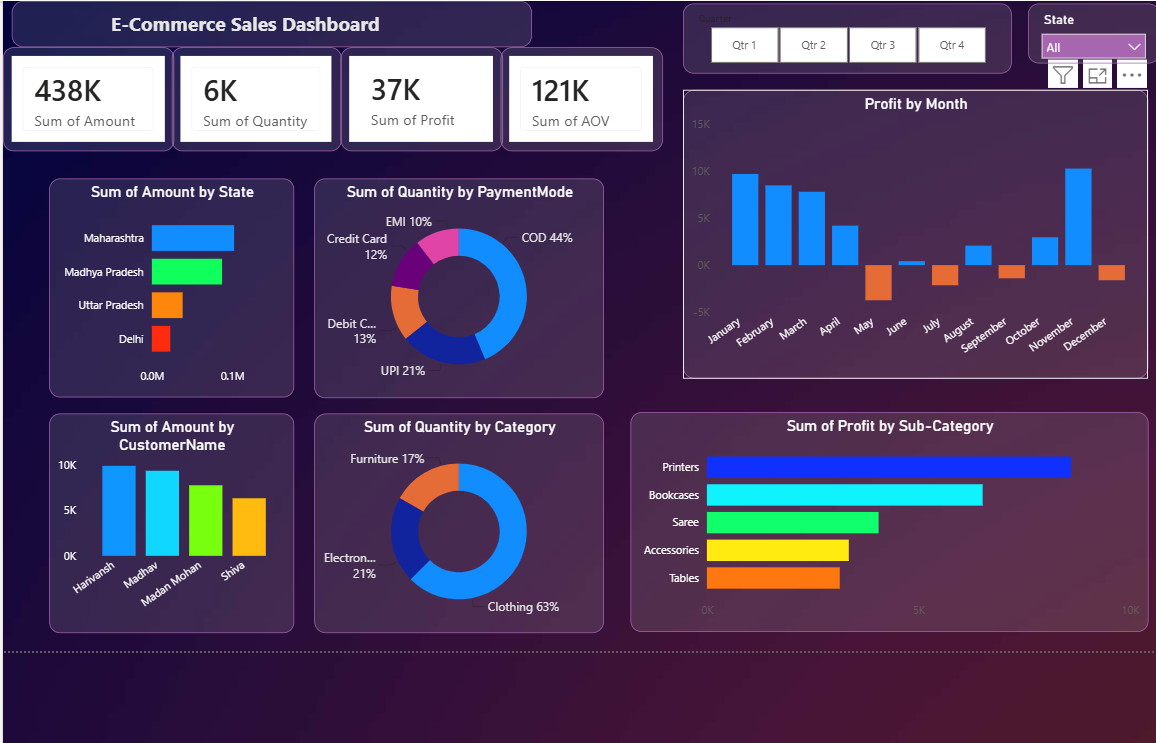

This screenshot's page, from the dashboard's own definition file:
{"tool":"powerbi","page":{"name":"Page 1","canvas":[1280,720],"ordinal":0},"visuals":[{"type":"textbox","box":[9.6,0,543.4,39.8],"z":0},{"type":"columnChart","title":"Profit by Month","fields":{"Category":["Orders.Order Date.Variation.Date Hierarchy.Month"],"Y":["Sum(Details.Profit)"]},"box":[767.1,98.8,500.9,319.7],"z":1000},{"type":"barChart","fields":{"Category":["Details.Sub-Category"],"Y":["Sum(Details.Profit)"]},"box":[694.3,455.6,573.6,242.9],"z":2000},{"type":"donutChart","fields":{"Category":["Details.Category"],"Y":["Sum(Details.Quantity)"]},"box":[344.4,456.9,321.1,242.9],"z":3000},{"type":"donutChart","fields":{"Category":["Details.PaymentMode"],"Y":["Sum(Details.Quantity)"]},"box":[344.4,196.2,321.1,242.9],"z":4000},{"type":"cardVisual","fields":{"Data":["Sum(Details.Amount)"]},"box":[0,50.8,189.4,115.3],"z":4001},{"type":"cardVisual","fields":{"Data":["Sum(Details.Quantity)"]},"box":[186.6,50.8,188,115.3],"z":4002},{"type":"cardVisual","fields":{"Data":["Sum(Details.Profit)"]},"box":[373.2,50.8,179.8,115.3],"z":4003},{"type":"cardVisual","fields":{"Data":["Sum(Details.AOV)"]},"box":[550.3,50.8,179.8,115.3],"z":4004}]}

Visuals, with their boxes on the page's 1280x720 design canvas (x1, y1, x2, y2). These are canvas units, not pixel positions in the 1156x743 screenshot, which may show the page scaled, cropped or inside an application window:
textbox: [left=10, top=0, right=553, bottom=40]
"Profit by Month" columnChart: [left=767, top=99, right=1268, bottom=418]
barChart - Details.Sub-Category x Sum(Details.Profit): [left=694, top=456, right=1268, bottom=698]
donutChart - Details.Category x Sum(Details.Quantity): [left=344, top=457, right=666, bottom=700]
donutChart - Details.PaymentMode x Sum(Details.Quantity): [left=344, top=196, right=666, bottom=439]
cardVisual - Sum(Details.Amount): [left=0, top=51, right=189, bottom=166]
cardVisual - Sum(Details.Quantity): [left=187, top=51, right=375, bottom=166]
cardVisual - Sum(Details.Profit): [left=373, top=51, right=553, bottom=166]
cardVisual - Sum(Details.AOV): [left=550, top=51, right=730, bottom=166]
